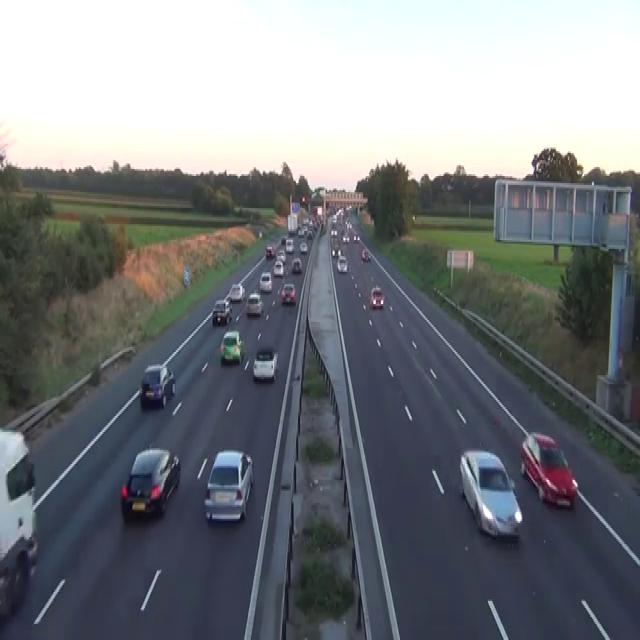Car: (459, 448, 522, 540), (120, 444, 180, 521), (520, 432, 578, 508), (204, 448, 253, 523), (0, 535, 37, 619), (140, 363, 175, 407), (252, 348, 278, 382), (219, 329, 244, 364), (211, 299, 232, 325), (369, 284, 385, 310), (245, 292, 263, 314), (280, 283, 296, 304), (229, 283, 245, 302), (259, 270, 272, 292), (336, 254, 348, 272), (291, 256, 302, 274), (224, 295, 233, 313), (273, 260, 283, 276), (265, 244, 275, 258), (276, 249, 286, 263), (331, 245, 341, 258), (361, 247, 370, 261), (285, 238, 294, 252), (441, 182, 455, 190), (299, 240, 307, 252), (319, 222, 326, 235), (297, 226, 304, 236), (342, 233, 349, 242), (345, 218, 351, 228), (306, 230, 313, 238), (353, 233, 359, 242), (330, 230, 337, 237), (281, 234, 286, 243), (258, 228, 262, 238), (346, 204, 351, 212), (301, 195, 305, 202), (332, 215, 336, 222)
Truck: (0, 427, 38, 620)
